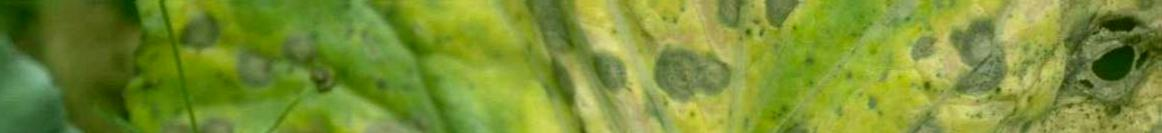Tomato leaf bacterial spot: (101, 0, 1162, 133)
